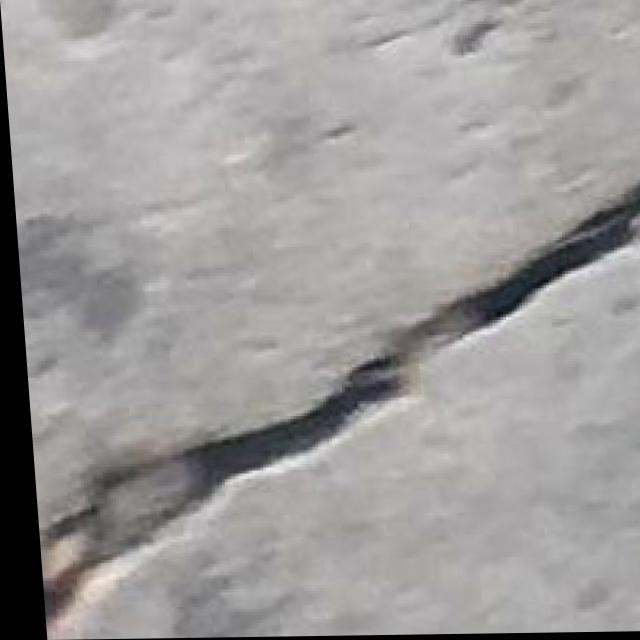Crack: (16, 170, 640, 640)
